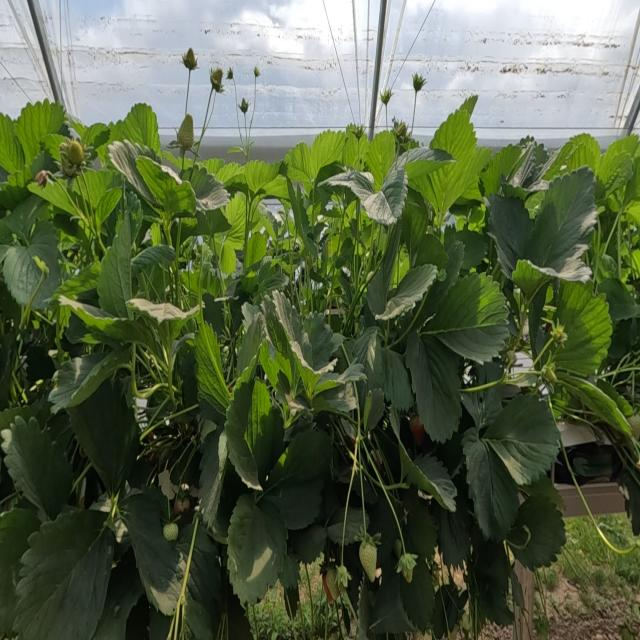Leaves: (16, 509, 114, 638), (69, 377, 139, 490), (425, 273, 507, 363), (525, 168, 597, 269), (3, 417, 73, 518), (261, 428, 331, 529), (125, 486, 179, 613), (484, 393, 559, 484), (228, 493, 287, 604), (225, 379, 283, 488), (405, 333, 462, 441), (465, 436, 519, 542), (553, 280, 611, 375), (59, 295, 161, 349), (260, 292, 312, 392), (561, 370, 632, 441), (2, 221, 59, 309), (509, 482, 565, 569), (132, 144, 195, 216), (93, 550, 143, 639), (485, 195, 533, 278), (186, 539, 222, 639), (48, 352, 107, 411), (194, 320, 229, 416), (473, 540, 512, 624), (98, 222, 132, 317), (109, 141, 154, 212), (15, 100, 63, 166), (354, 327, 385, 429), (379, 265, 436, 318), (407, 454, 455, 511), (399, 555, 435, 631), (359, 169, 407, 226), (373, 565, 411, 633), (371, 347, 412, 410), (366, 238, 399, 315), (403, 488, 437, 562), (545, 134, 600, 179), (200, 429, 223, 529), (180, 164, 230, 210), (431, 106, 475, 158), (305, 313, 343, 371), (510, 139, 552, 191), (369, 497, 399, 569), (481, 144, 522, 194), (598, 135, 639, 185), (438, 503, 470, 567), (83, 187, 122, 238), (321, 169, 375, 205), (3, 196, 49, 237), (397, 147, 456, 178), (215, 193, 246, 252), (308, 130, 346, 178), (28, 180, 80, 215), (122, 103, 159, 152), (598, 279, 639, 322), (53, 262, 100, 299), (366, 131, 395, 190), (129, 299, 199, 322), (74, 169, 113, 209), (290, 524, 326, 563), (1, 113, 24, 173), (284, 143, 312, 192), (455, 229, 488, 269), (244, 160, 279, 195), (237, 326, 260, 376), (342, 123, 366, 169), (133, 245, 174, 271), (148, 605, 170, 639), (215, 162, 244, 186), (344, 508, 362, 545), (263, 175, 289, 200), (328, 508, 344, 544)
Strawberries: (410, 72, 425, 136), (359, 535, 377, 580), (177, 114, 195, 151), (397, 553, 415, 583), (62, 140, 83, 165), (323, 568, 339, 600), (392, 118, 408, 142), (182, 47, 197, 71), (410, 416, 423, 443), (346, 123, 365, 141), (210, 68, 223, 92), (163, 523, 178, 541), (337, 565, 348, 588), (381, 89, 393, 108), (174, 499, 189, 514)
